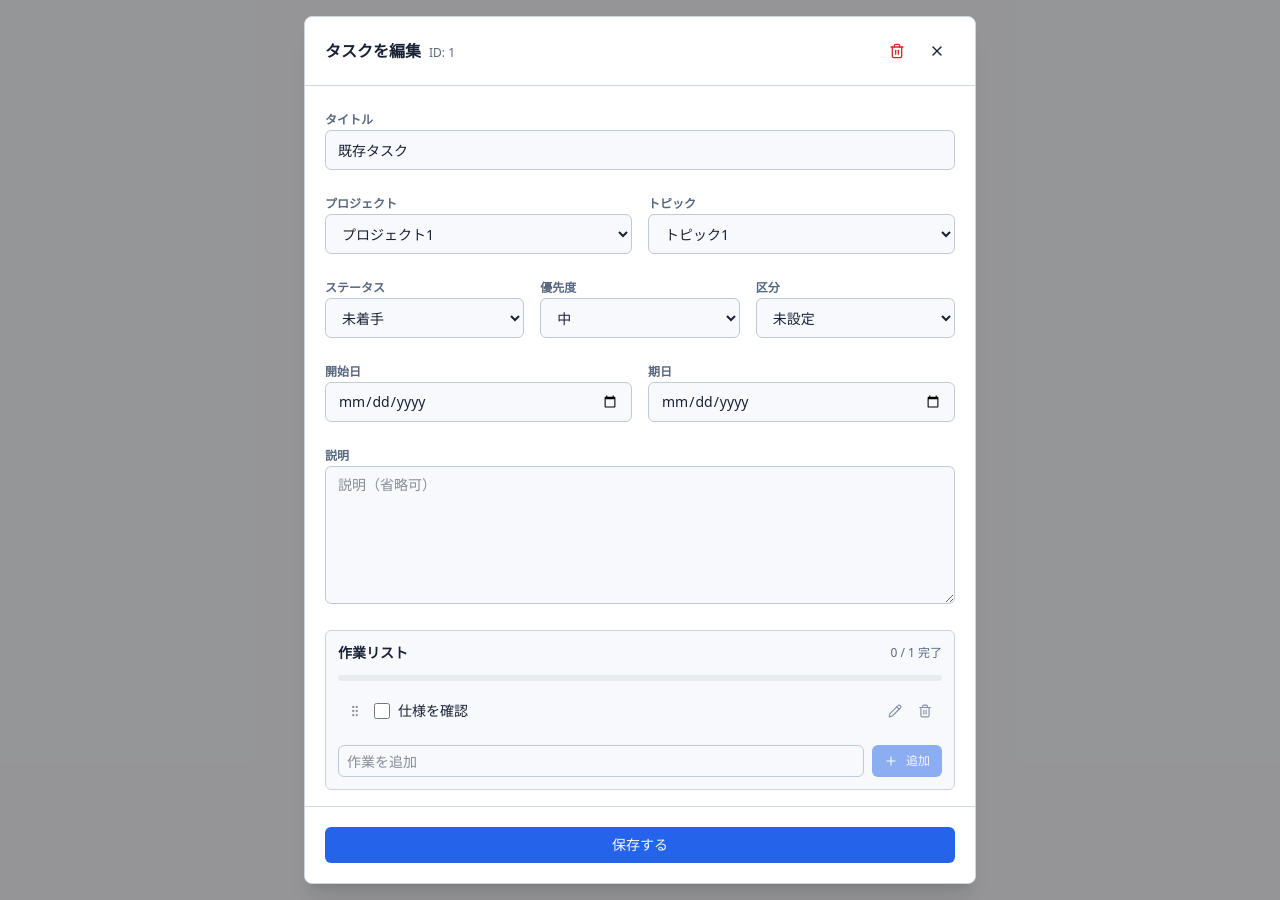
Test: TaskDrawer › 作業タイトル編集中のESCではタスク画面を閉じない
Click the button named "「仕様を確認」を編集": point(895, 711) left=884, top=700, right=906, bottom=722
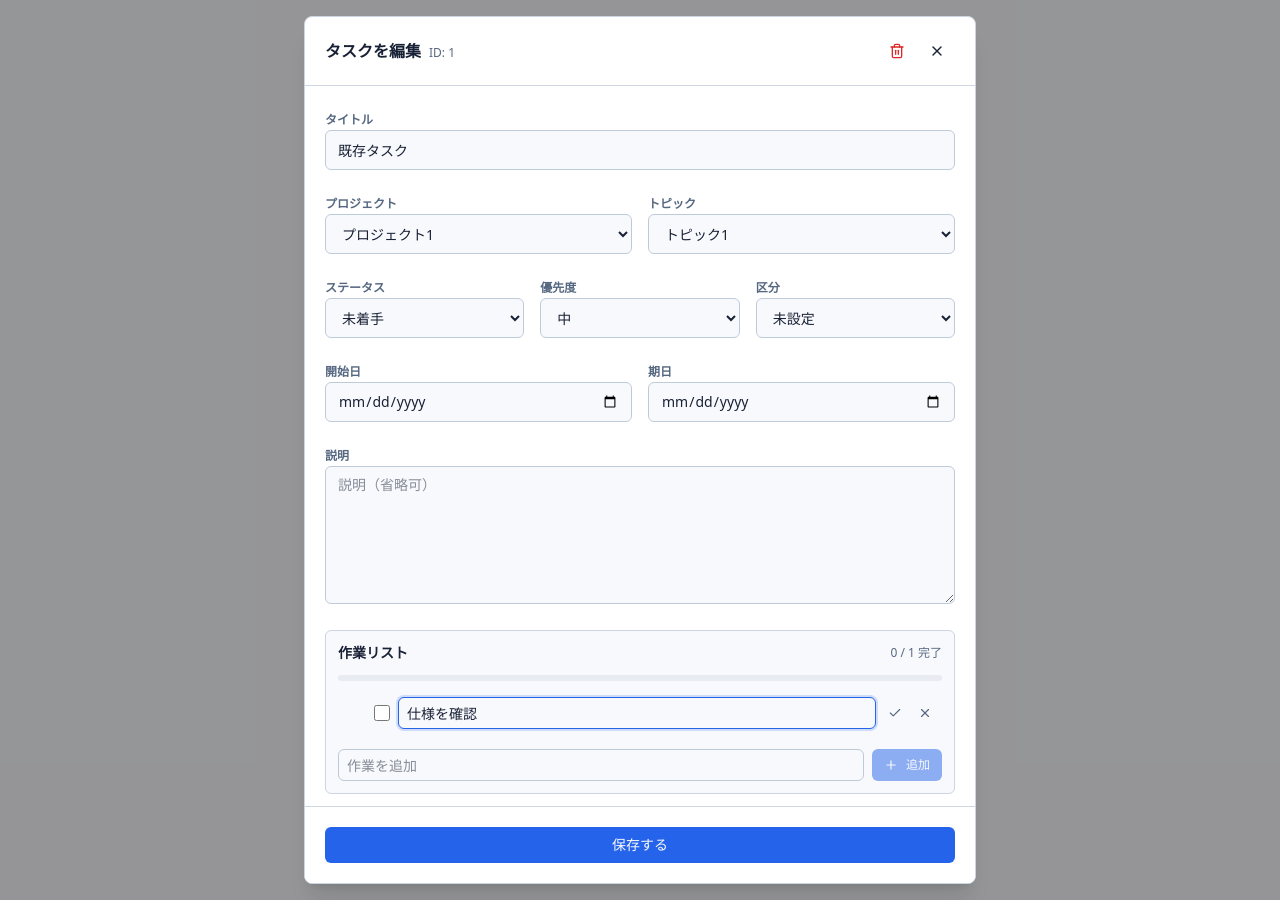
Check: the field named "作業内容" is shown, box left=398, top=697, right=876, bottom=729
Press Escape
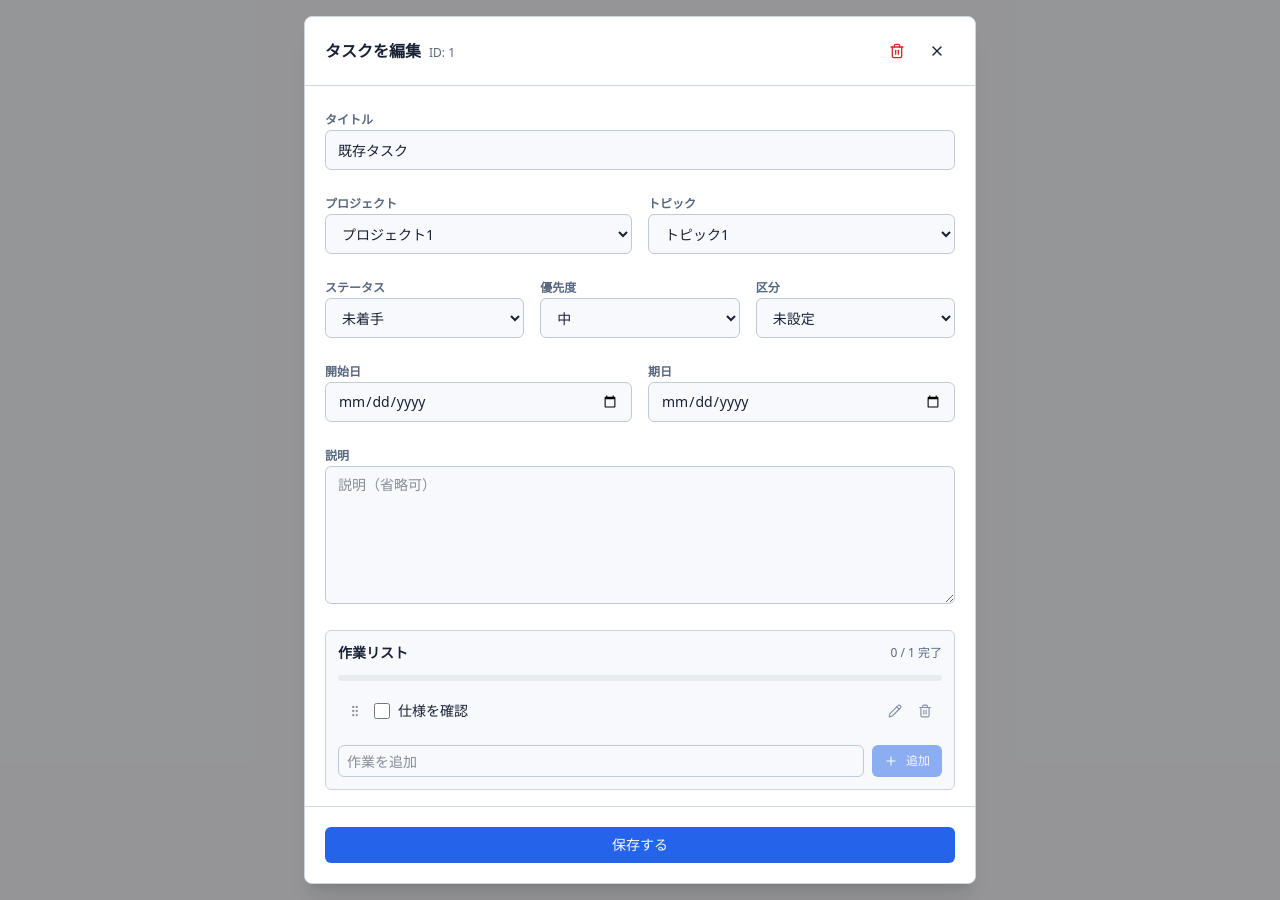
Check: the field labelled "作業内容" is not shown
Check: the button "仕様を確認" is shown, box left=398, top=701, right=876, bottom=721
